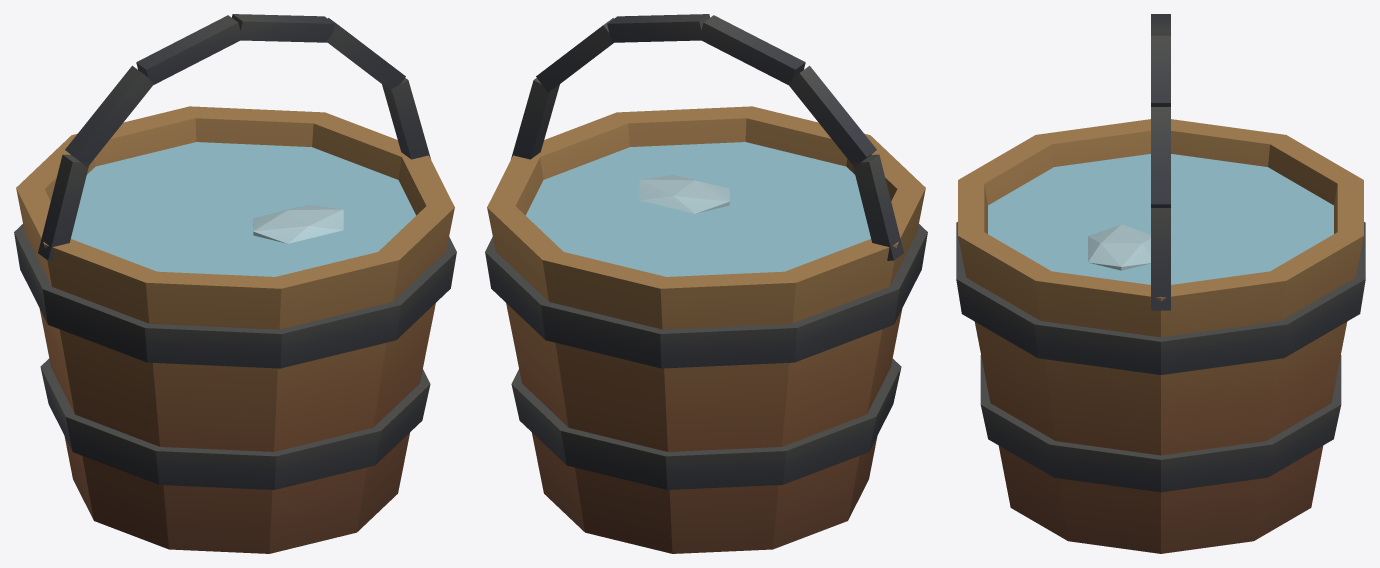
File: item_water.glb
3 renders of one model, left to right at view 1: azimuth 30°, elevation 25°; view 2: azimuth 150°, elevation 25°; view 3: azimuth 270°, elevation 25°, orthographic. The views are drawn at different scales.
Parts seen in each view (by area): view 1: item_water; view 2: item_water; view 3: item_water.
Part boxes in pixels (x1,y1,x2,y2): item_water: (14, 14, 456, 553); item_water: (485, 14, 927, 553); item_water: (956, 14, 1365, 553).
Size of the model in its own units: 1.09 by 1.26 by 1.04.
1 material, 1 textured.
